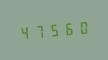five: (46, 20, 59, 39)
four: (18, 23, 31, 41)
seven: (32, 21, 45, 40)
six: (60, 19, 73, 38)
zero: (74, 18, 87, 37)
